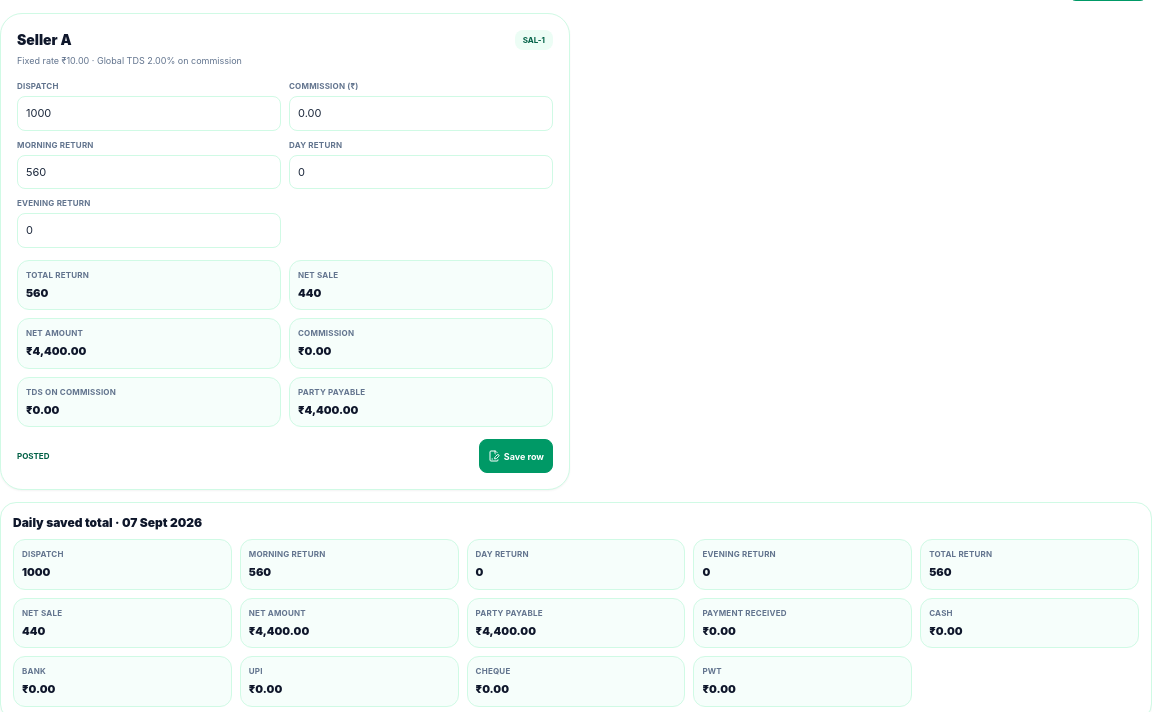
Test: DailySellerEntry local-first projection › does not mark an older row errored when its version changes before rejection
This screenshot has width=1152, height=712.
(page scrolled)
Click the button "Save row" at (516, 456), box [479, 439, 553, 473]
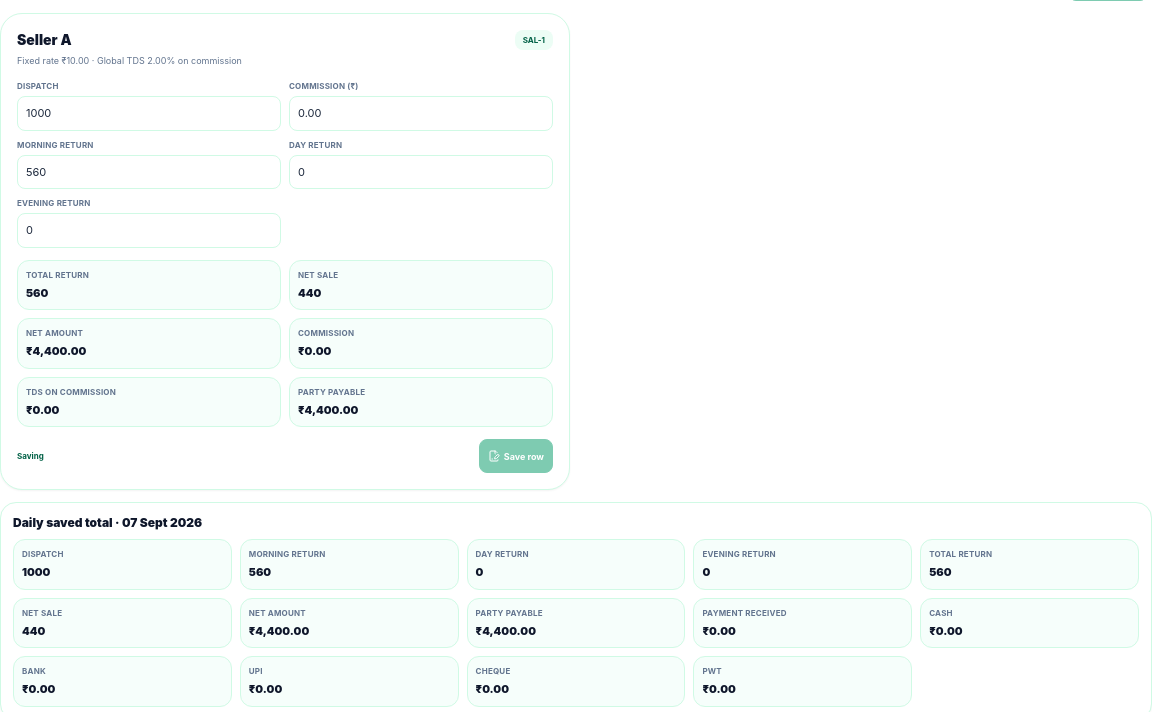
Replace the text in the field named "Seller A morning return" with "912" at (149, 172), box [17, 155, 281, 189]
(page scrolled)
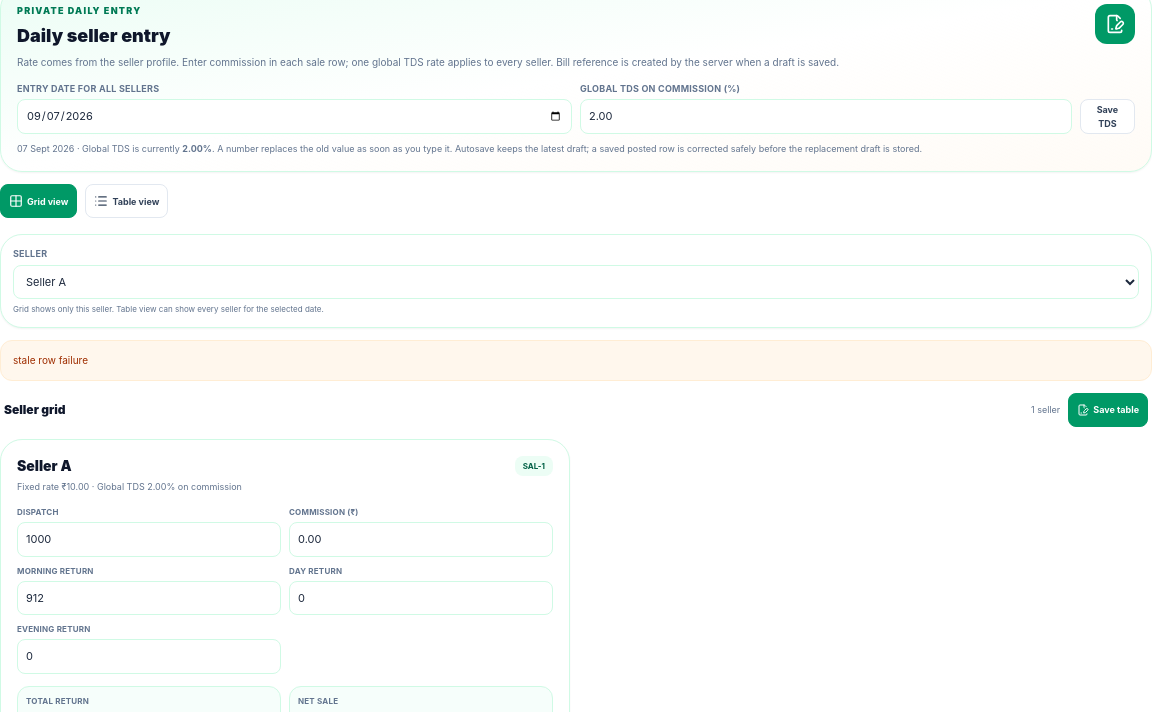
Check: the text "stale row failure" is shown, box [0, 340, 1151, 381]
